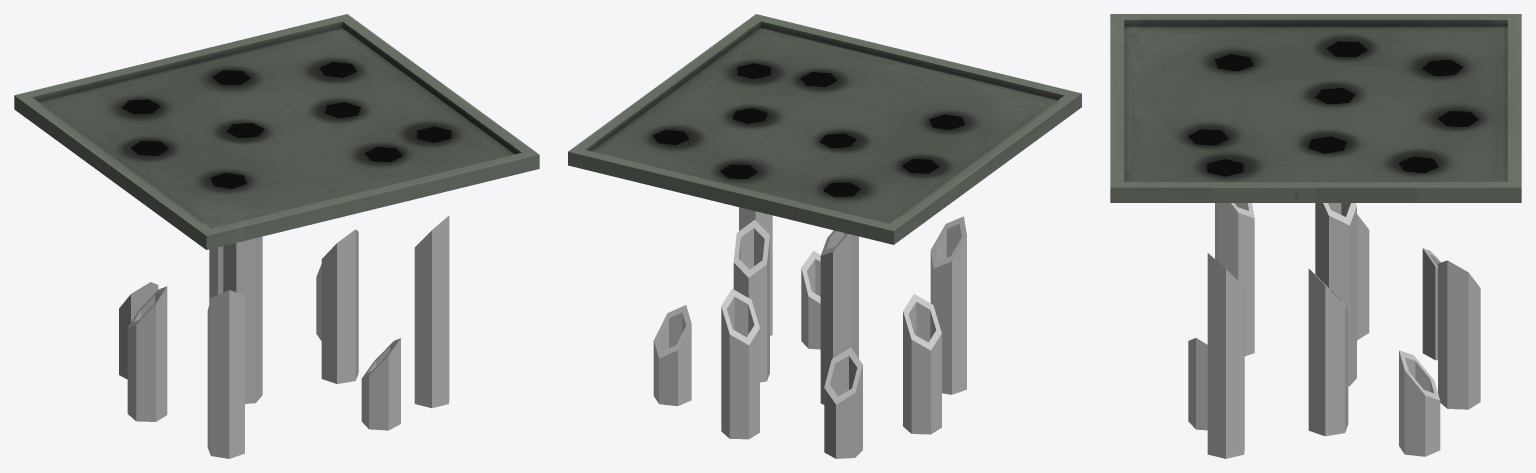
The model's file is bamboo trap.fbx.
3 views of the same model, side by side, from view 1: azimuth 30°, elevation 25°; view 2: azimuth 150°, elevation 25°; view 3: azimuth 270°, elevation 25° (orthographic). The views are drawn at different scales.
Parts seen in each view (by area): view 1: pCube2, pCylinder20; view 2: pCube2, pCylinder20; view 3: pCube2, pCylinder20.
Part boxes in pixels (x1,y1,x2,y2): pCube2: [14, 14, 539, 249]; pCylinder20: [119, 216, 449, 458]; pCube2: [568, 14, 1081, 244]; pCylinder20: [653, 207, 966, 458]; pCube2: [1110, 14, 1521, 202]; pCylinder20: [1188, 203, 1480, 458].
Bounding box in the file's own units: 5.65 × 4.48 × 5.65.
